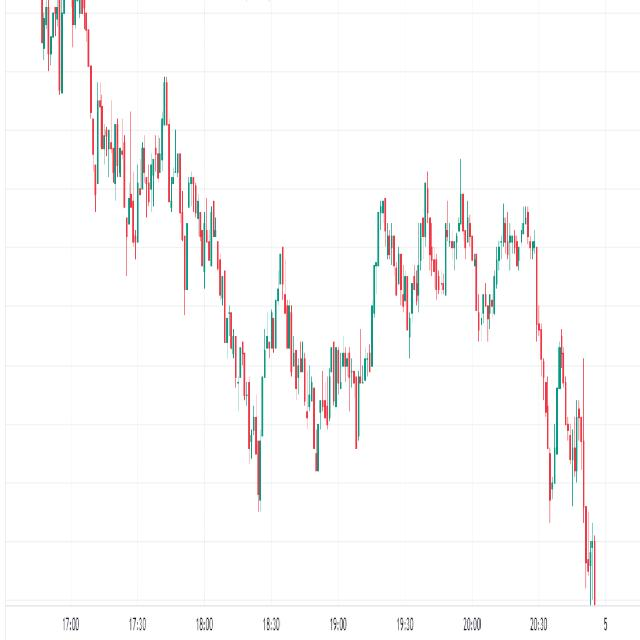Ascending-Triangle: (184, 186, 634, 631)
